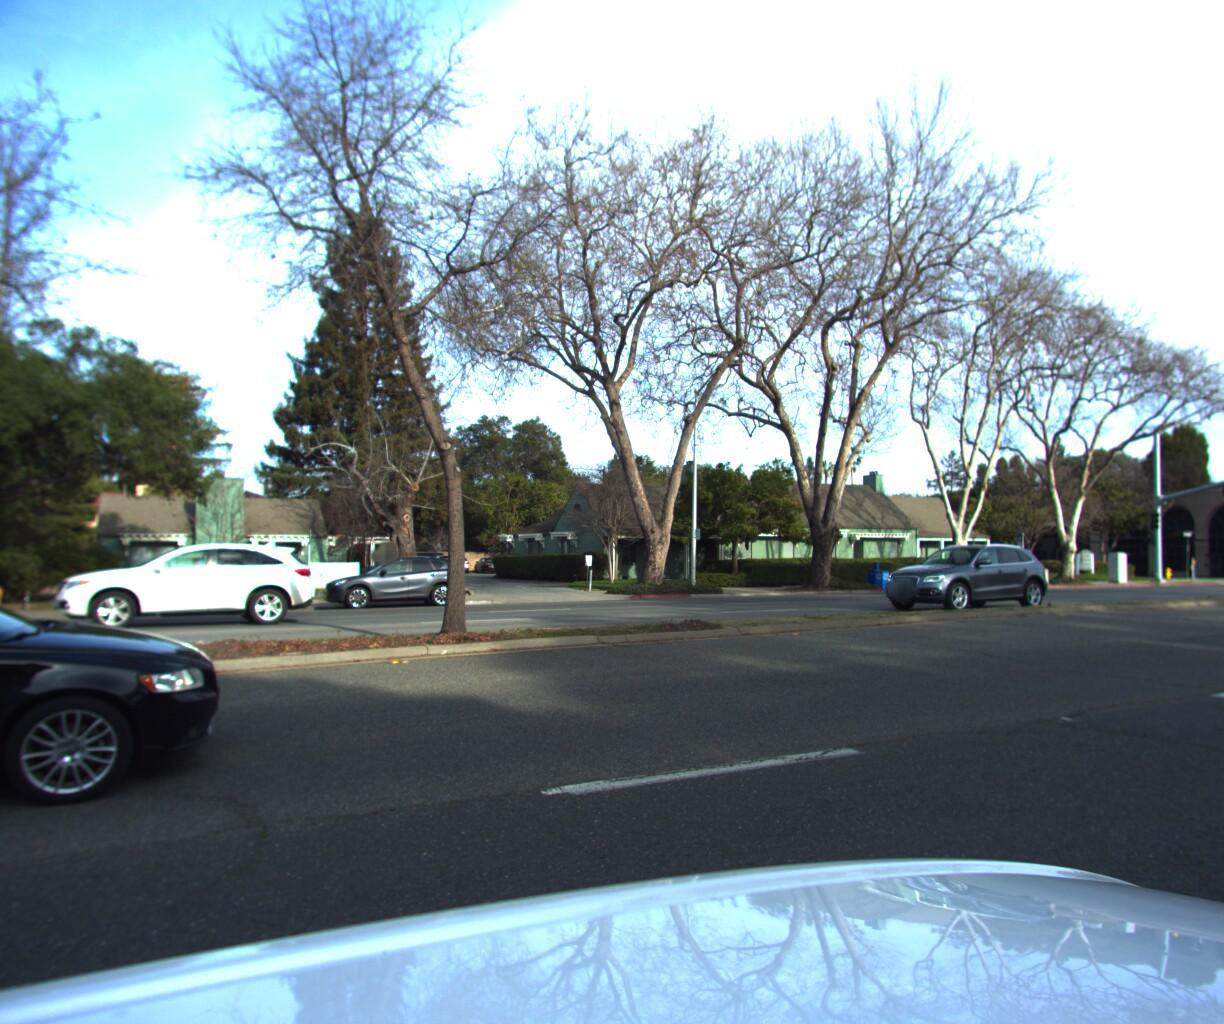car: (0, 531, 258, 921), (39, 538, 311, 636), (870, 541, 1057, 614), (322, 553, 470, 610), (357, 549, 463, 587)
